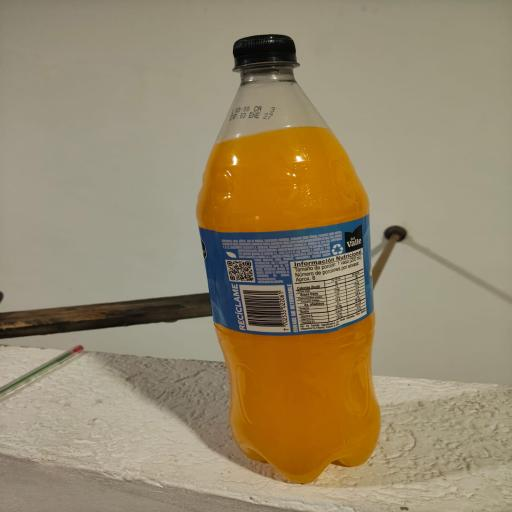Jugo del valle: (185, 31, 424, 492)
